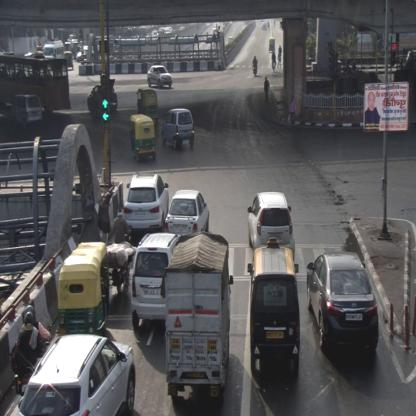bus: (0, 52, 70, 112), (43, 39, 65, 59)
car: (17, 331, 137, 415), (249, 239, 300, 383), (306, 252, 378, 352), (131, 232, 179, 328), (248, 189, 294, 256), (122, 171, 168, 235), (164, 189, 210, 237), (161, 108, 194, 152), (148, 66, 172, 89)
motorcycle: (12, 305, 52, 396), (114, 204, 130, 296), (252, 54, 257, 74), (272, 50, 276, 72)
truck: (167, 233, 236, 402)
